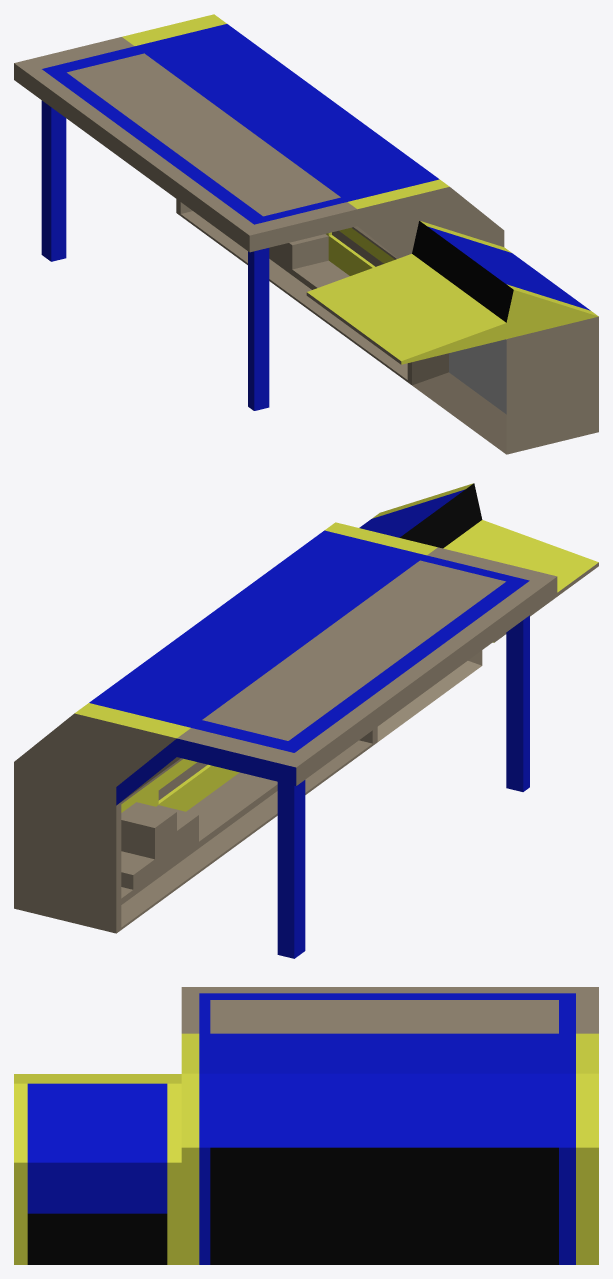
Rendered from BigBuilding.obj.
3 views of the same model, one above another, from view 1: azimuth 30°, elevation 25°; view 2: azimuth 150°, elevation 25°; view 3: azimuth 270°, elevation 25° (orthographic). The views are drawn at different scales.
Visible parts, largest first — view 1: Cube.008_Cube.013; view 2: Cube.008_Cube.013; view 3: Cube.008_Cube.013.
Boxes of the visible parts, left/top/right/bottom form: Cube.008_Cube.013: left=14, top=14, right=598, bottom=454; Cube.008_Cube.013: left=14, top=483, right=598, bottom=958; Cube.008_Cube.013: left=14, top=987, right=598, bottom=1264.
Bounding box in the file's own units: 12.47 × 8.86 × 27.99.
